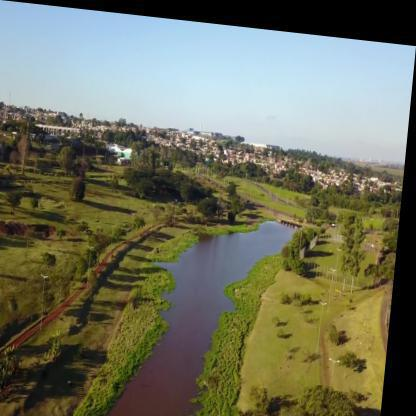agua: (126, 313, 212, 415), (171, 243, 263, 336)
